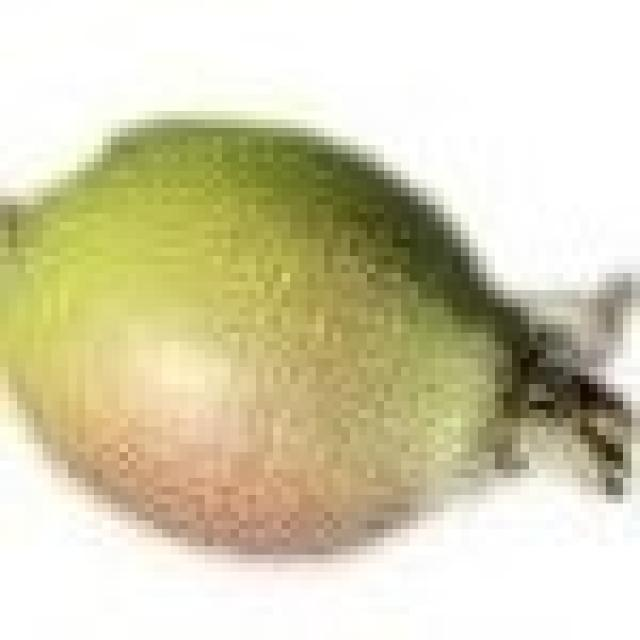20-_ripeness: (0, 112, 640, 566)
